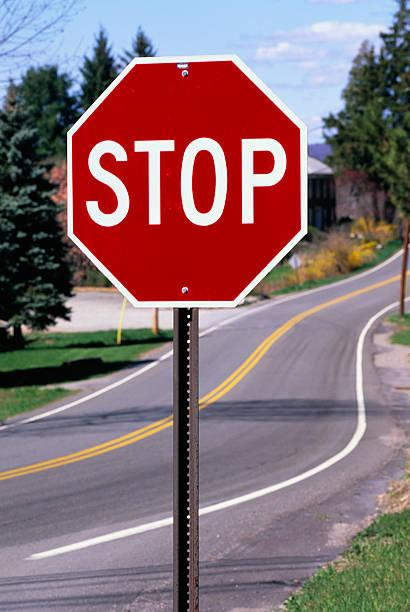Pole: (169, 307, 204, 611)
Sign: (67, 56, 307, 308)
